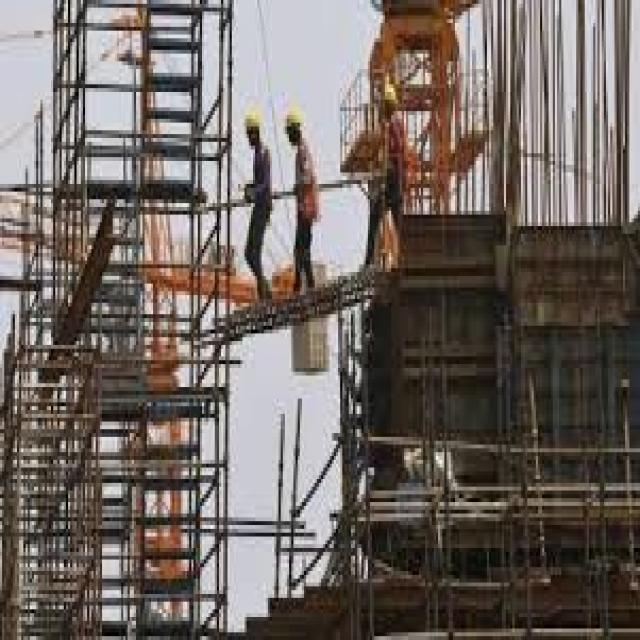Reflective-Jacket: (289, 138, 321, 226), (244, 142, 274, 218)
Safety-Helmet: (240, 92, 266, 142), (283, 92, 310, 138), (380, 81, 402, 111)
